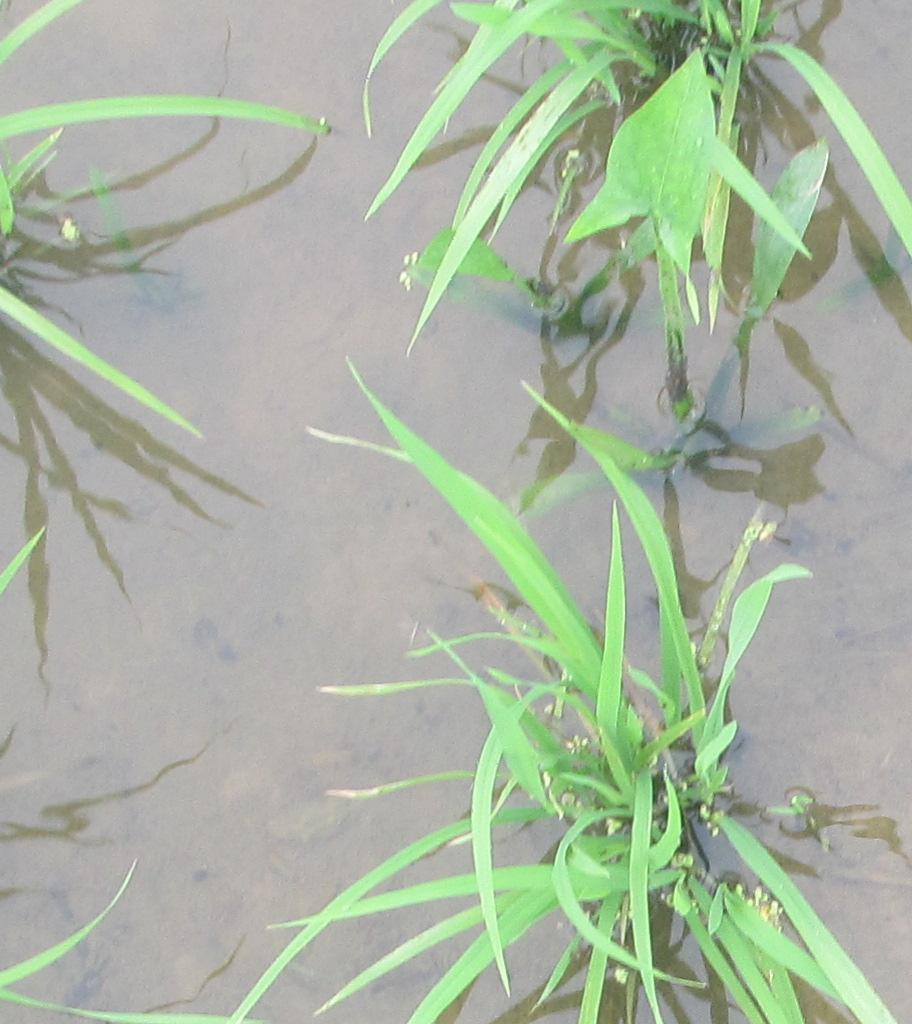Weed: (582, 63, 720, 252)
